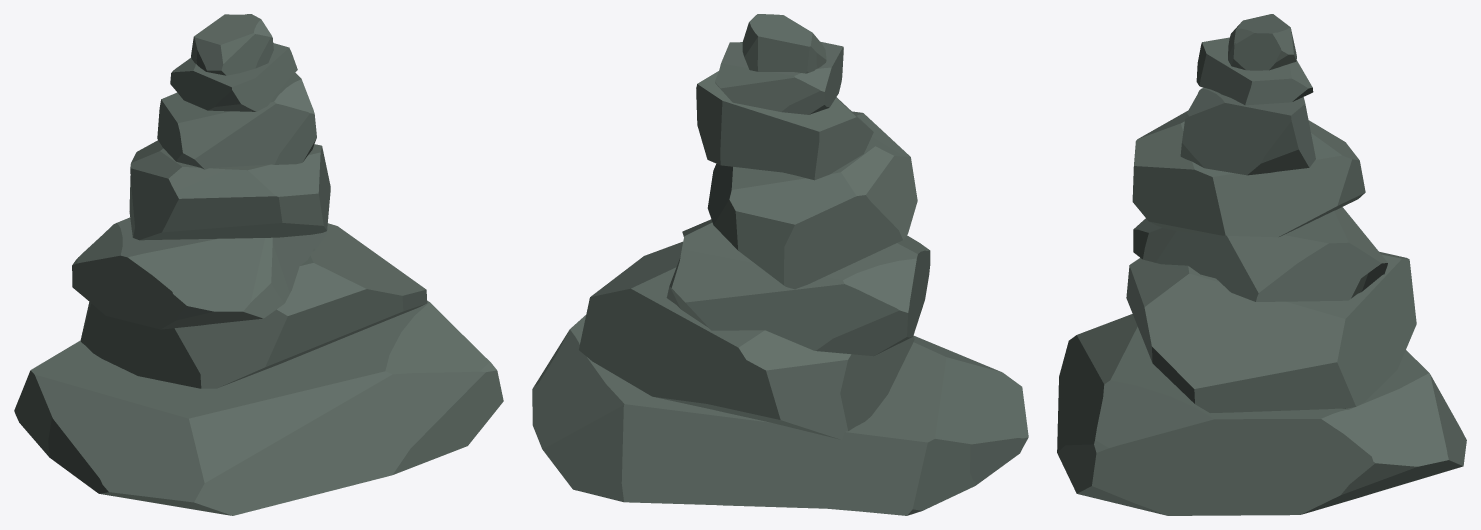
File: rockpile.fbx
The picture shows the model from 3 angles, left to right: view 1: azimuth 30°, elevation 25°; view 2: azimuth 150°, elevation 25°; view 3: azimuth 270°, elevation 25°; orthographic projection. The views are drawn at different scales.
Parts seen in each view (by area): view 1: Cube; view 2: Cube; view 3: Cube.
Boxes of the visible parts, x1=… form: Cube: x1=14, y1=14, x2=503, y2=515; Cube: x1=532, y1=14, x2=1028, y2=515; Cube: x1=1057, y1=14, x2=1466, y2=515.
Size of the model in its own units: 108 by 109 by 99.89.
